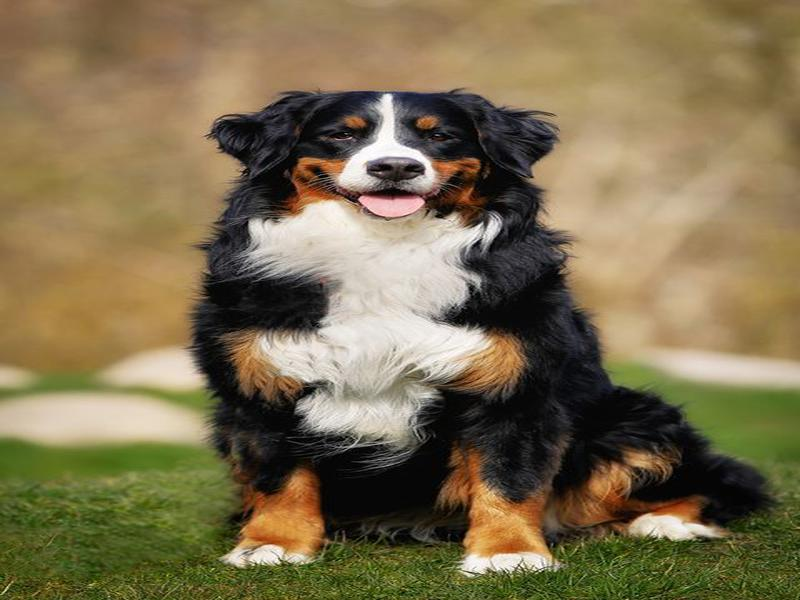dog: (192, 83, 769, 572)
